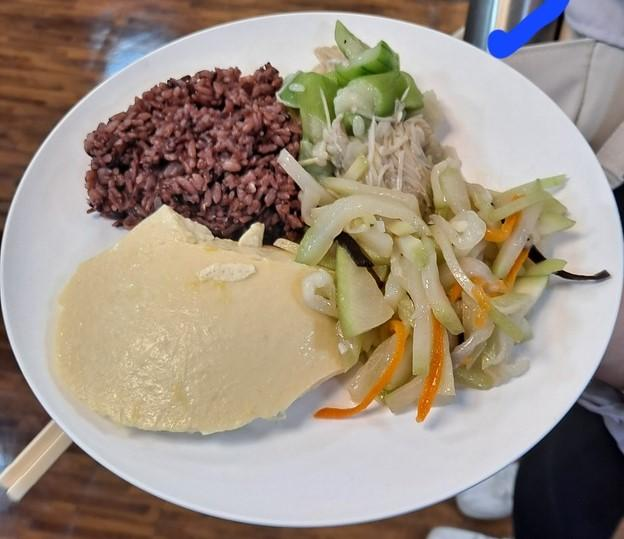big fried chicken leg: (4, 17, 624, 527)
braised fish: (82, 63, 300, 235)
braised fish fillet: (300, 165, 576, 427), (47, 203, 353, 436), (284, 23, 437, 194)
